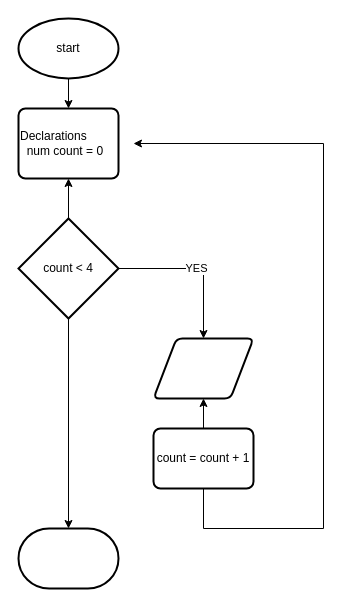
Image size: 349x606. Some labels were removed from this diagram. Here are the shapes that lost their labels. From the top down, the centre of each, then its label:
point 203,368: output "Hello"
point 68,558: stop
